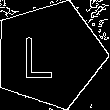L_N: (33, 29, 66, 80)
